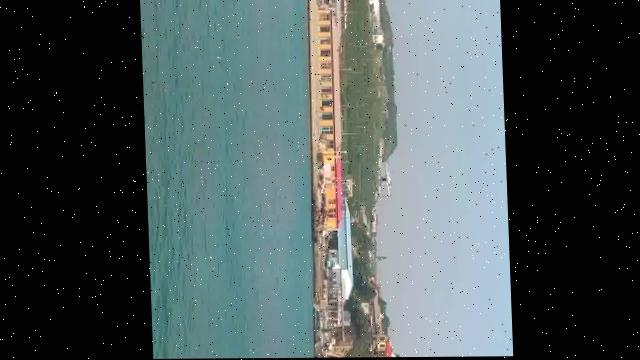drone: (380, 160, 393, 196)
